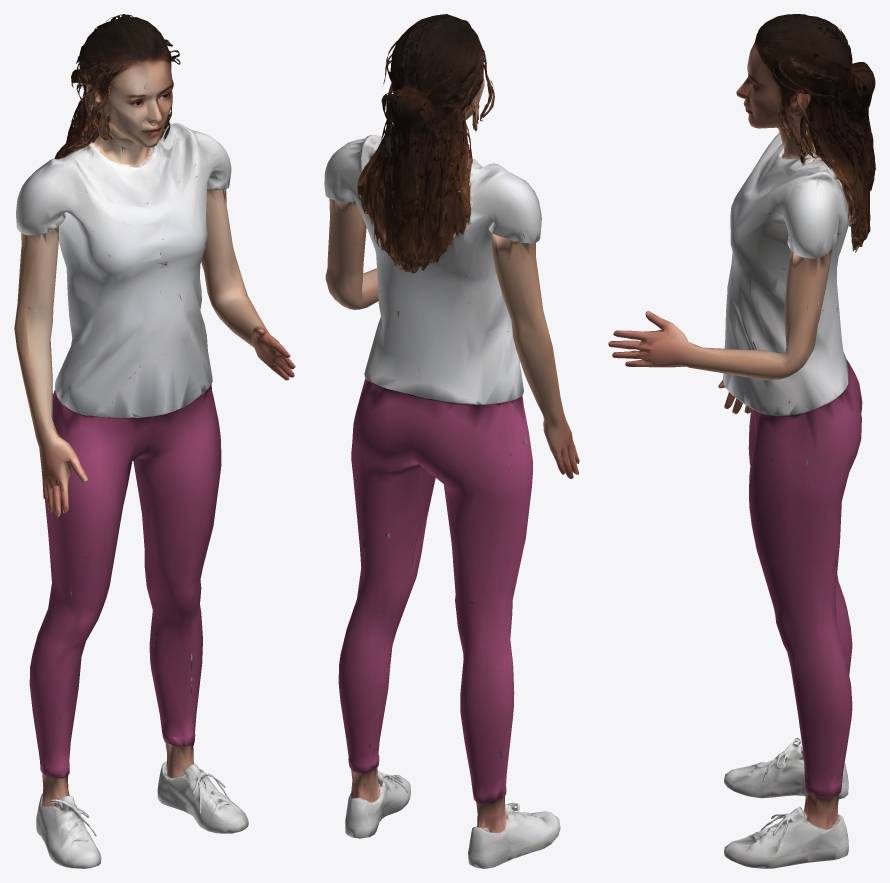
The model's file is bia.glb.
3 views of the same model, side by side, from view 1: azimuth 30°, elevation 25°; view 2: azimuth 150°, elevation 25°; view 3: azimuth 270°, elevation 25° (orthographic).
Size of the model in its own units: 0.4782 by 1.65 by 0.4945.
Materials: 1 (1 with a texture image).
